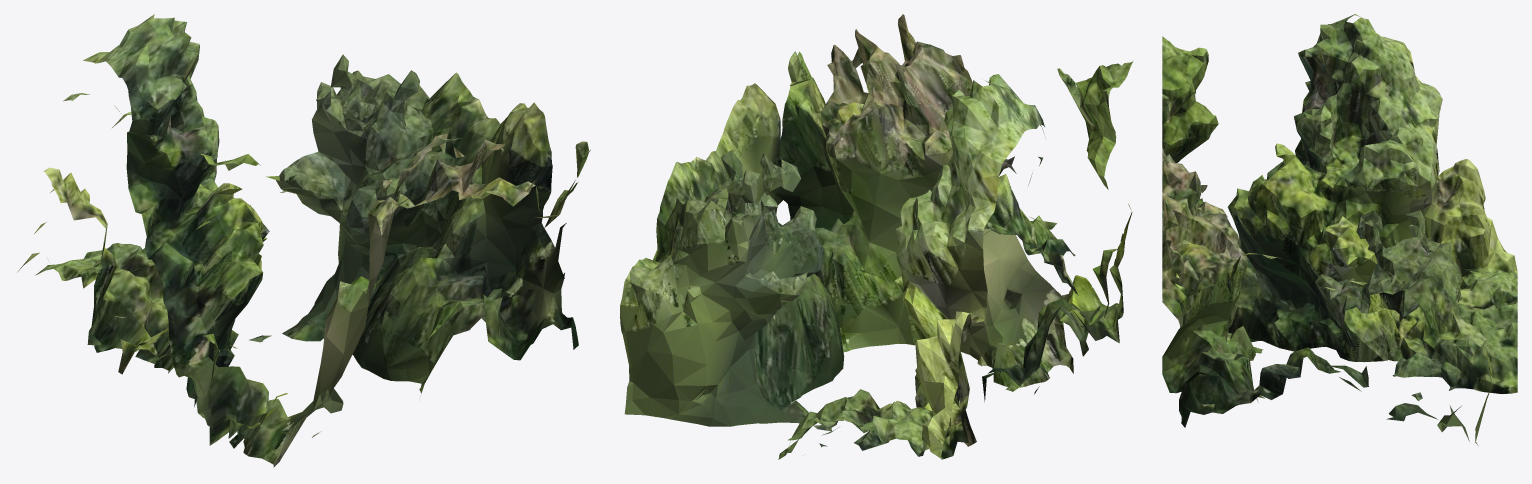
3 renders of one model, left to right at view 1: azimuth 30°, elevation 25°; view 2: azimuth 150°, elevation 25°; view 3: azimuth 270°, elevation 25°, orthographic. The views are drawn at different scales.
Size of the model in its own units: 26.11 by 26.11 by 26.11.
Materials: 7 (7 with a texture image).
